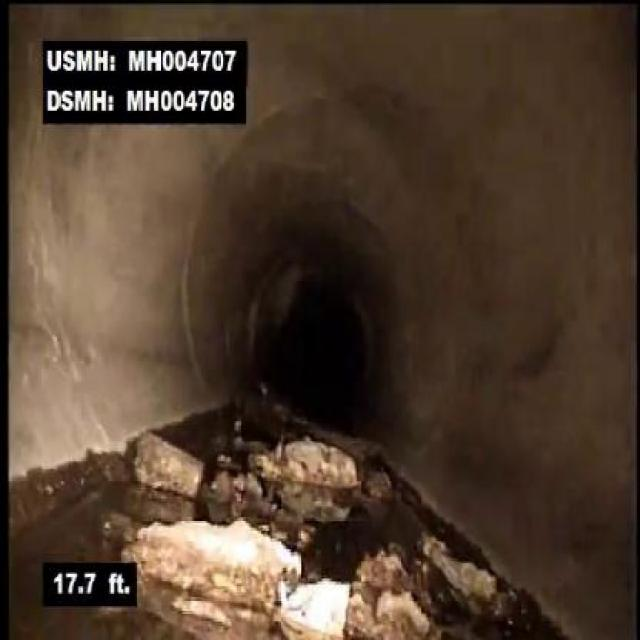Obstacle: (132, 504, 366, 638), (266, 424, 368, 516)
